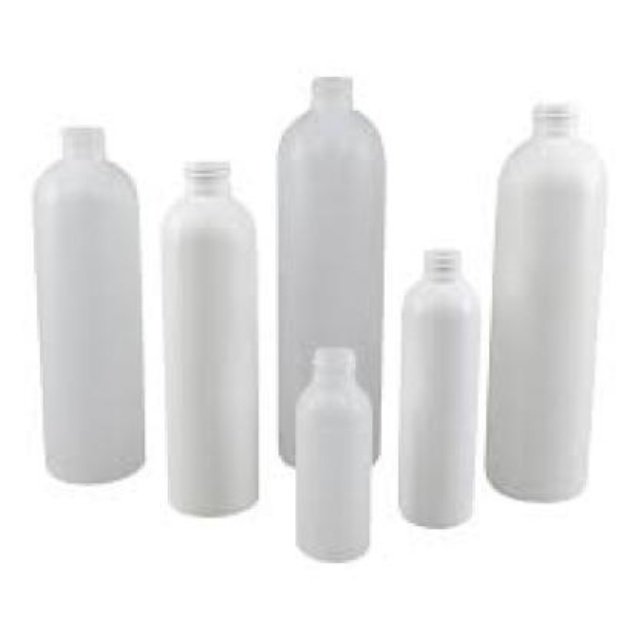trash: (488, 105, 603, 500), (277, 77, 383, 463), (34, 126, 143, 482), (163, 162, 257, 514), (398, 249, 477, 526), (295, 346, 371, 558)
